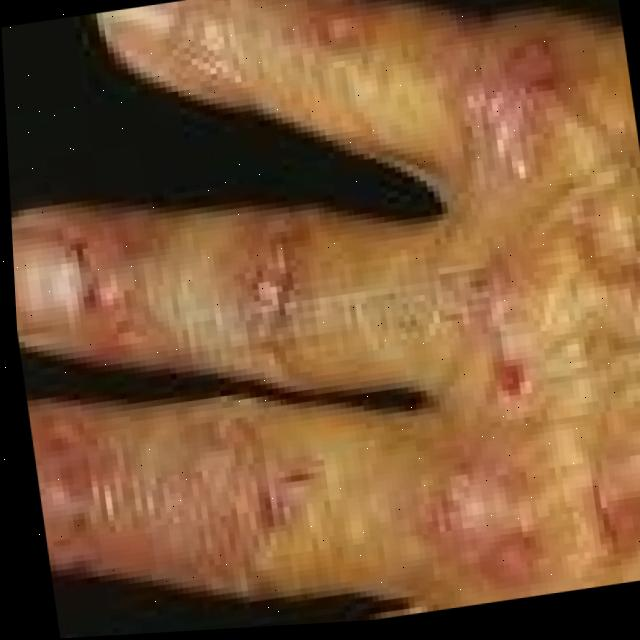Melasma: (406, 430, 640, 593), (459, 58, 579, 215), (213, 435, 310, 514), (299, 5, 375, 86), (55, 244, 113, 319), (241, 242, 284, 331), (493, 333, 551, 398)
